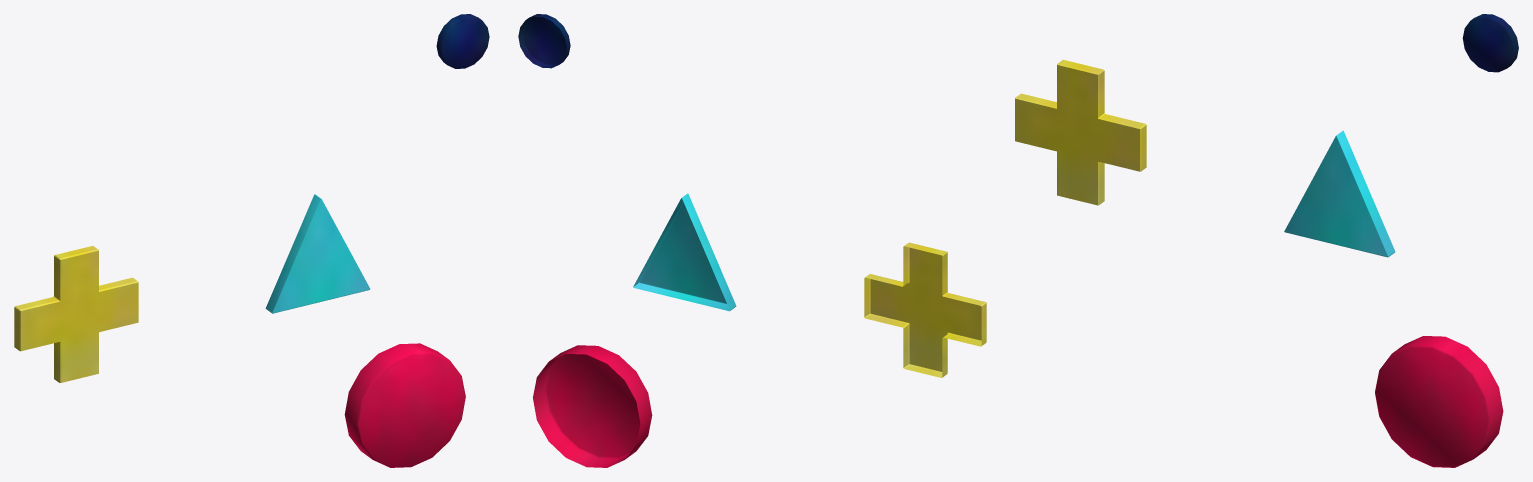
File: BotonesBMO_obj.obj
3 renders of one model, left to right at view 1: azimuth 30°, elevation 25°; view 2: azimuth 150°, elevation 25°; view 3: azimuth 330°, elevation 25°, orthographic. The views are drawn at different scales.
Parts seen in each view (by area): view 1: Botones; view 2: Botones; view 3: Botones.
Part boxes in pixels (left/top/right/bottom): Botones: left=14, top=14, right=489, bottom=467; Botones: left=518, top=14, right=986, bottom=467; Botones: left=1015, top=14, right=1518, bottom=467.
Size of the model in its own units: 0.7644 by 0.6788 by 0.0384.
